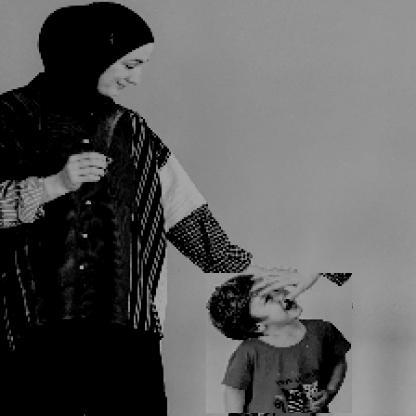child: (207, 274, 354, 415)
